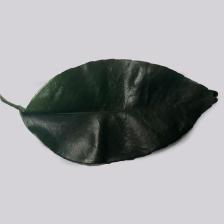healthy: (34, 58, 224, 176)
